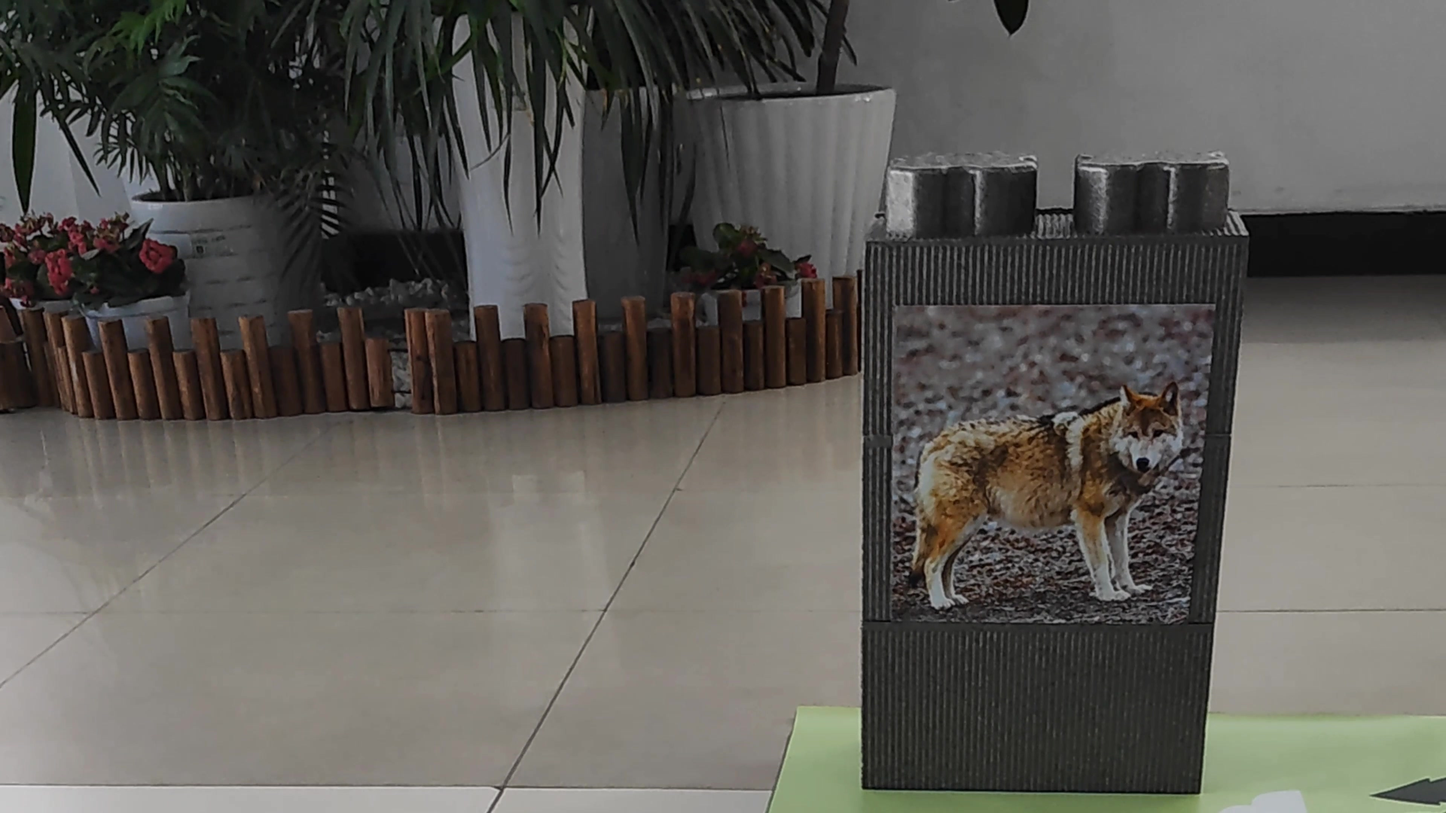wolf: (902, 340, 1194, 633)
